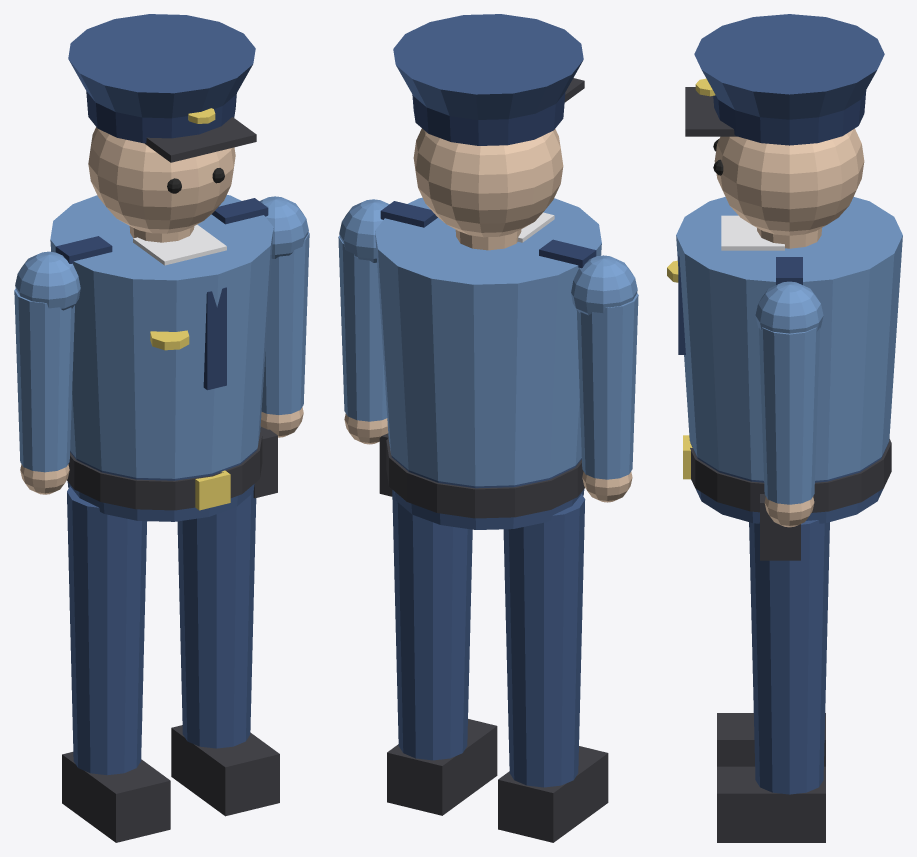
Rendered from cop.glb.
The picture shows the model from 3 angles, left to right: view 1: azimuth 30°, elevation 25°; view 2: azimuth 150°, elevation 25°; view 3: azimuth 270°, elevation 25°; orthographic projection.
Visible parts, largest first — view 1: Policier_LowPoly; view 2: Policier_LowPoly; view 3: Policier_LowPoly.
Boxes of the visible parts, x1,y1,x2,y2 form: Policier_LowPoly: [14, 14, 309, 842]; Policier_LowPoly: [338, 14, 638, 842]; Policier_LowPoly: [667, 14, 902, 842].
Bounding box in the file's own units: 0.736 × 1.82 × 0.52.
